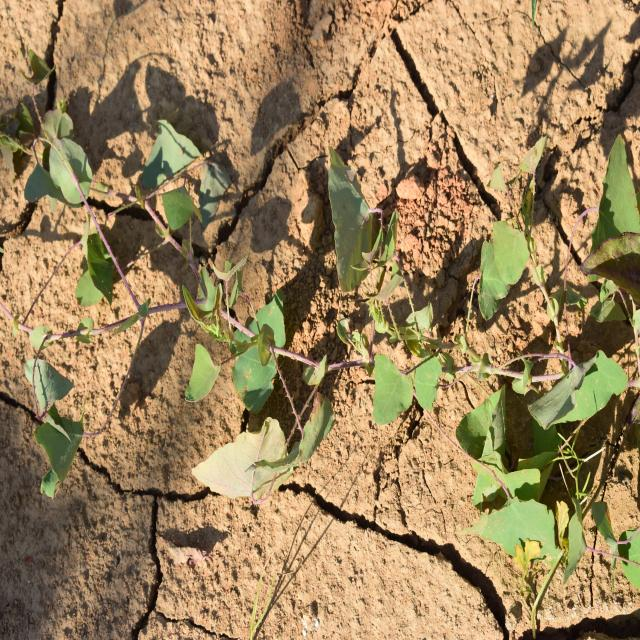Asiatic_Smartweed: (200, 302, 336, 504), (471, 396, 604, 579), (476, 138, 557, 342), (362, 324, 446, 443)
